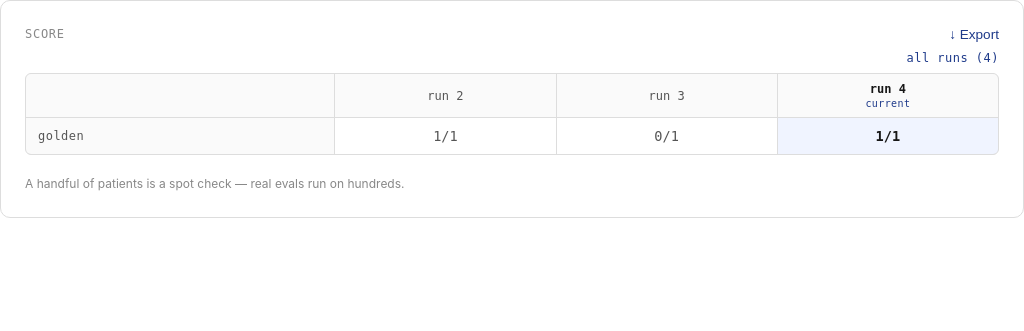
it: ScoreLine (SHA-163 N11 / SHA-170 N15a) › column header is a button that toggles a read-only run-prompt peek
Note: Click the current (run-4) column → its prompt peek opens, read-only.
Click the button with test id "grid-col" showing "run 4 current".
click(888, 96)  # box [778,74,998,117]
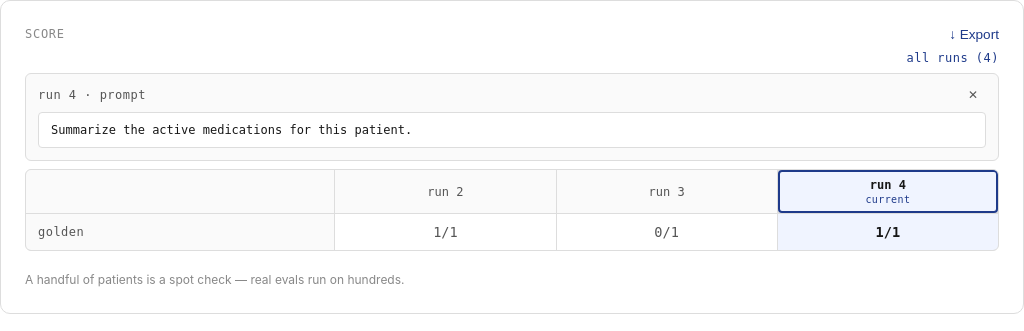
Now the text with test id "run-peek-prompt" reads "Summarize the active medications for this patient.", box [51,123,412,137]
Note: Clicking the same column again closes it (toggle).
Click the button with test id "grid-col" showing "run 4 current".
click(888, 192)  # box [778,170,998,213]
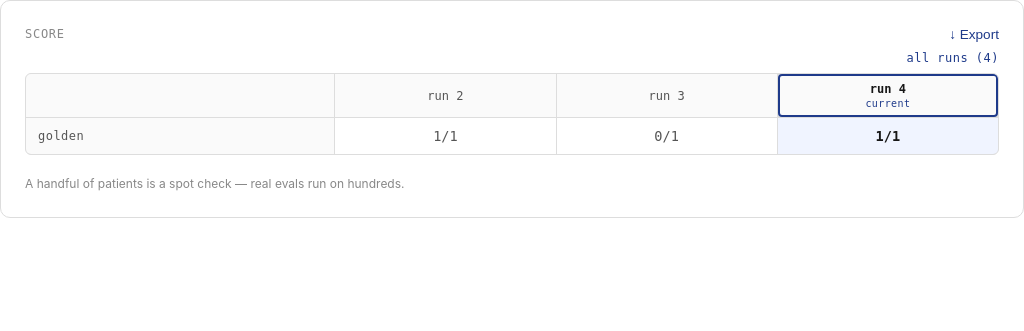
Now the element with test id "run-peek" is gone
Note: The explicit close button also dismisses the peek.
Click the button with test id "grid-col" showing "run 4 current".
click(888, 96)  # box [778,74,998,117]
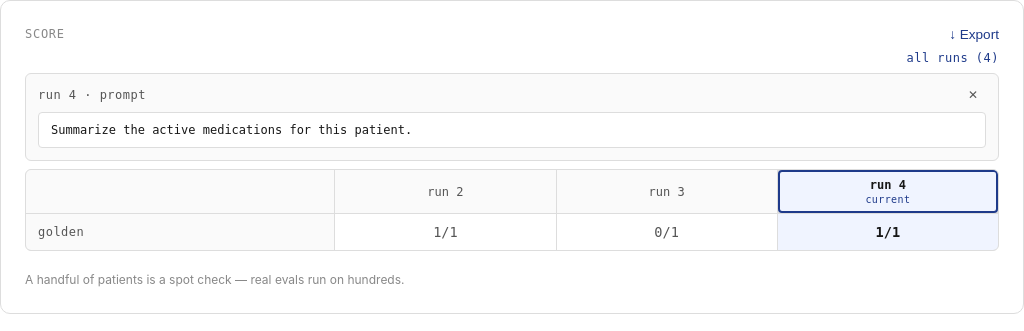
Click the button with test id "run-peek-close".
click(973, 95)  # box [960,89,986,101]
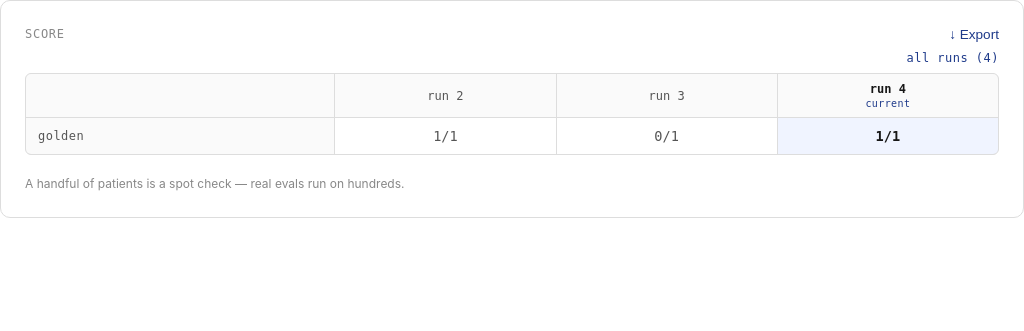
Now the element with test id "run-peek" is gone
